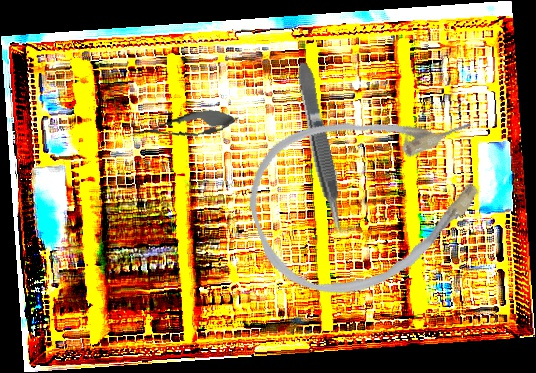Cannula: (232, 79, 509, 316)
Micro Scissor: (128, 104, 241, 148)
Tissue Forceps: (293, 60, 349, 236)
